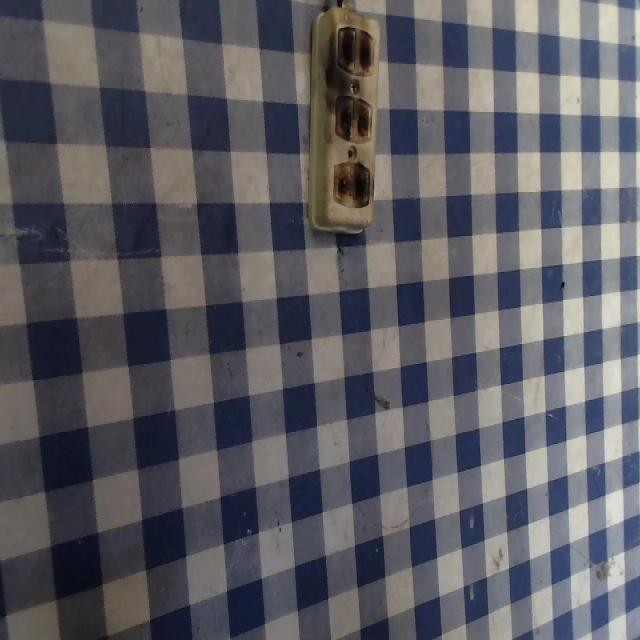-: (326, 146, 375, 226), (325, 89, 381, 152), (329, 18, 379, 82)
